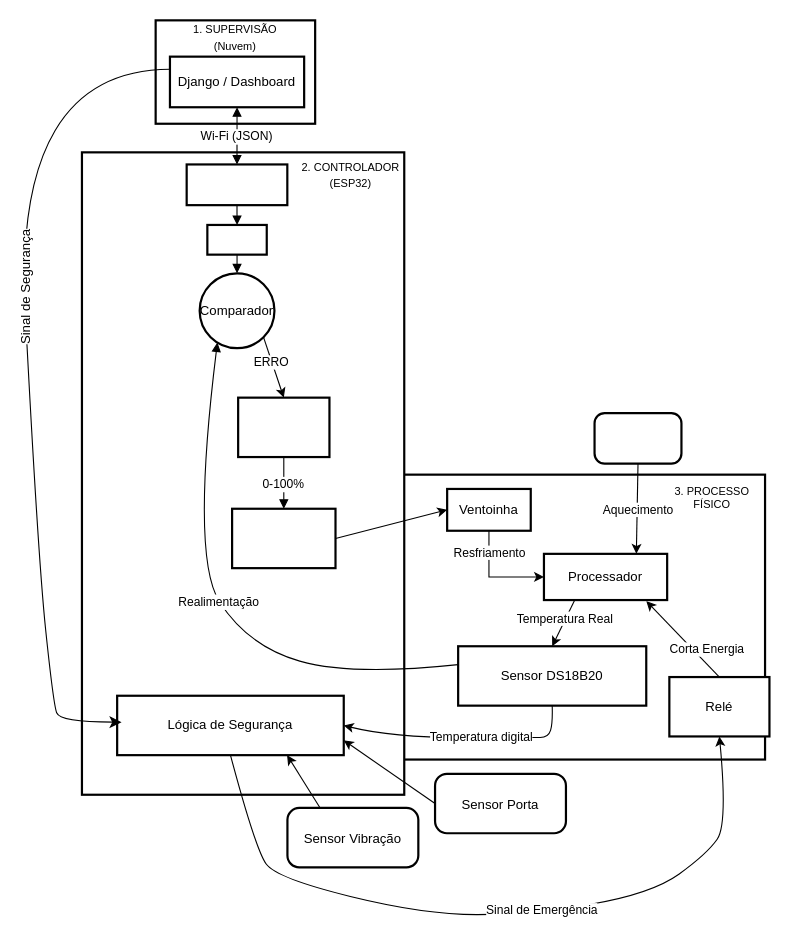
Image size: 790x936. Some labels were removed from this diagram. Each missing label, with the box of its shape:
Módulo Wi-Fi: (185, 163, 288, 206)
Perturbação (Calor CPU): (593, 411, 682, 464)
PID: (237, 396, 330, 458)
PWM: (230, 507, 336, 569)
Setpoint: (206, 223, 267, 255)
